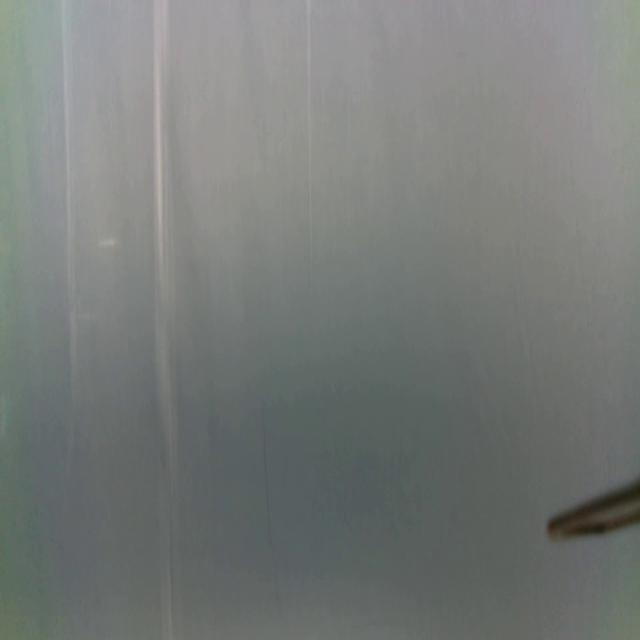crease: (150, 0, 184, 636), (60, 0, 82, 460), (304, 0, 318, 279)
